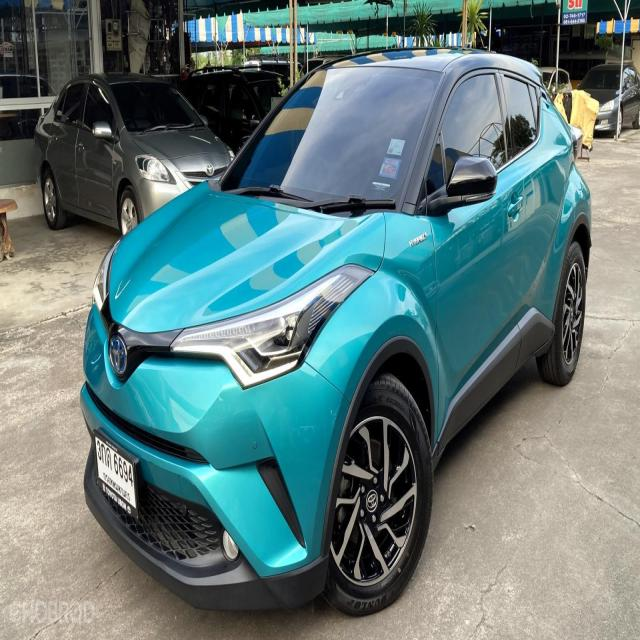license_plate: (92, 429, 140, 526)
